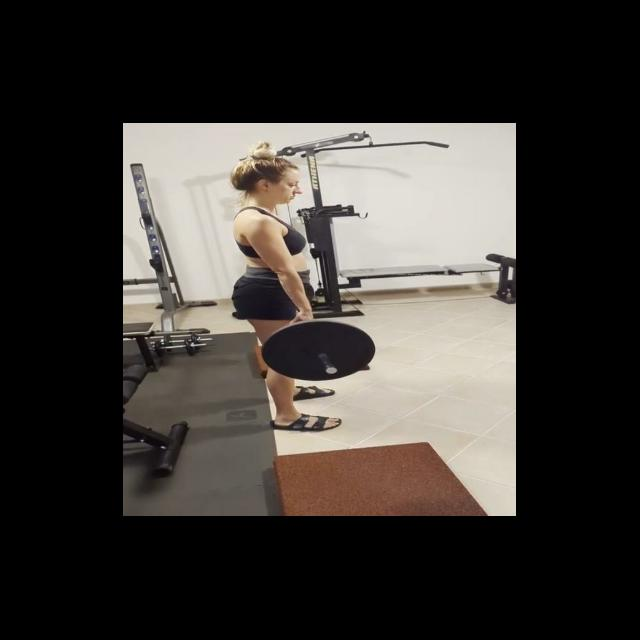barbell: (261, 318, 379, 383)
